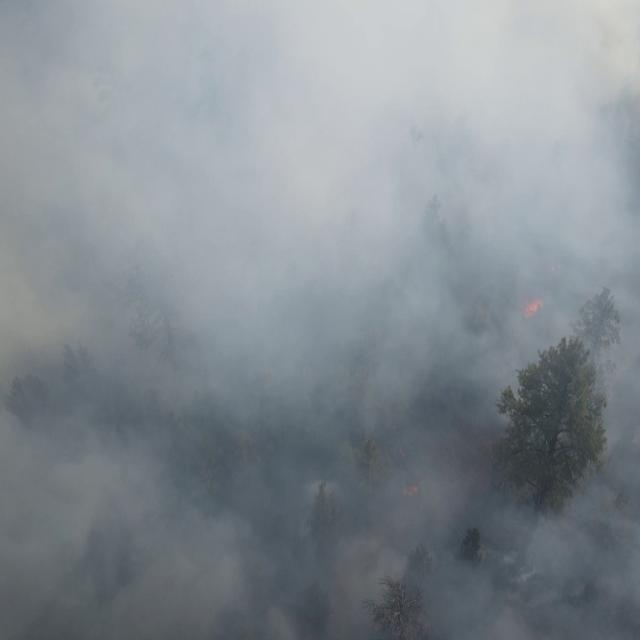fire: (522, 299, 540, 321), (400, 483, 419, 499)
smoke: (0, 0, 640, 640)
